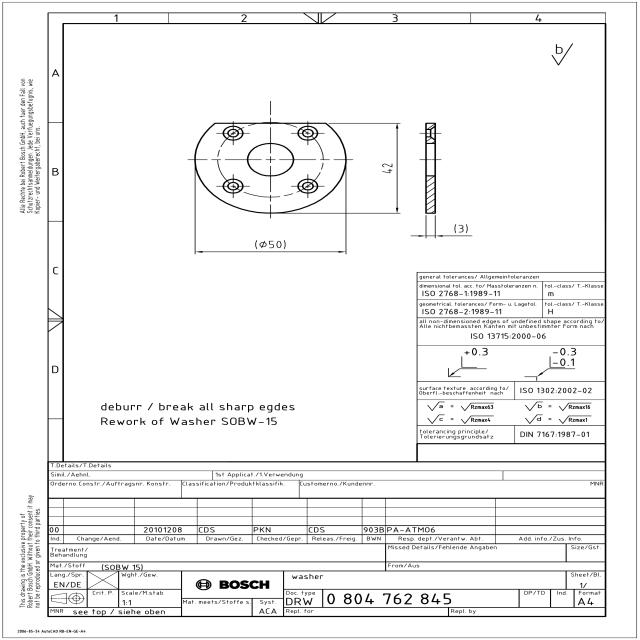dimension: (253, 239, 288, 250), (452, 223, 469, 234), (381, 163, 394, 174)
